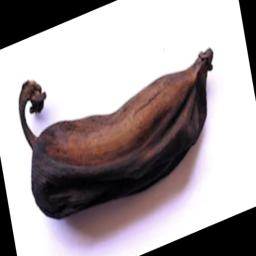Banana Rotten: (10, 43, 218, 226)
